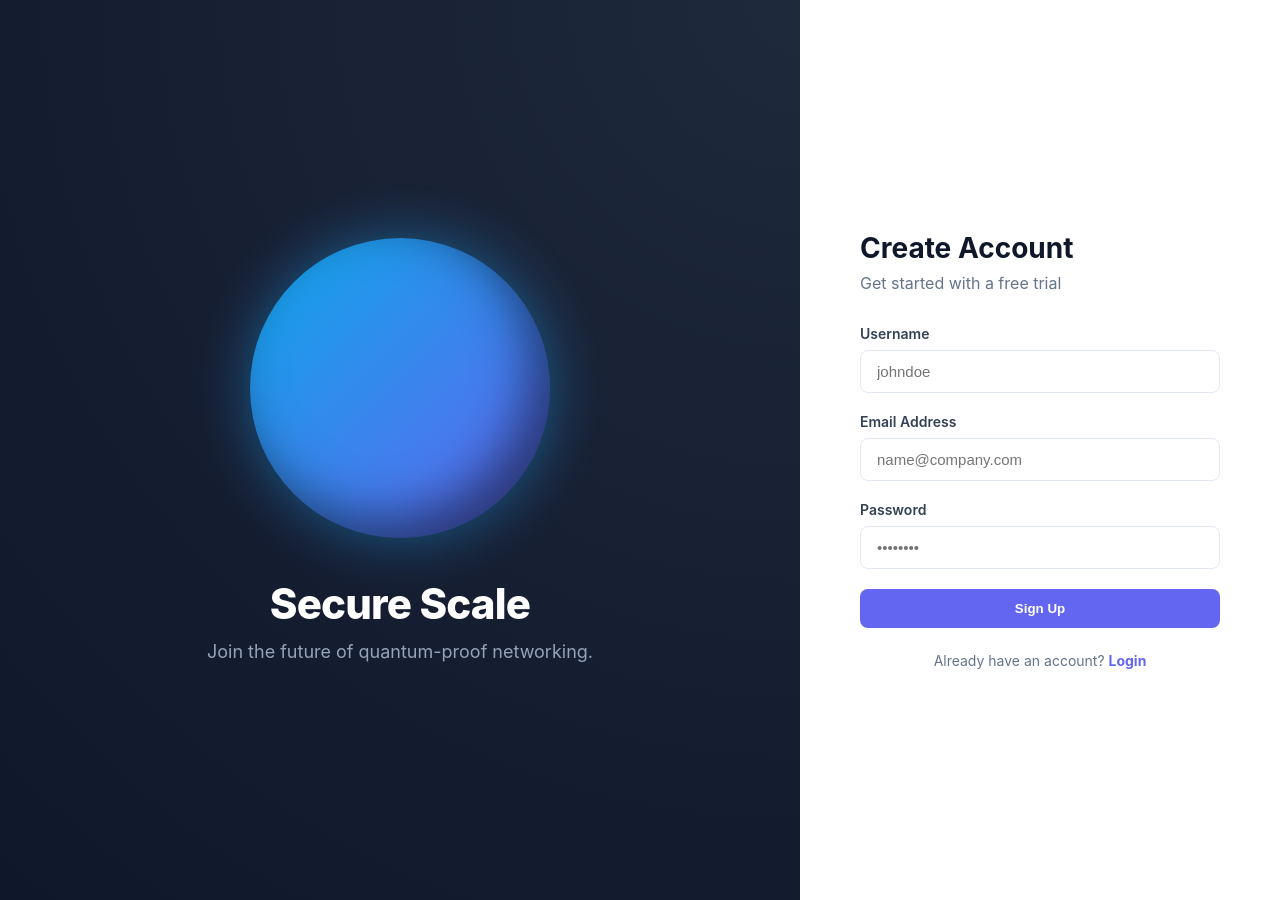
Test: Signup Component › shows error for weak password
Type "john" into the field with placeholder "johndoe".
click(1040, 372); type("john")  # box [860,350,1220,393]
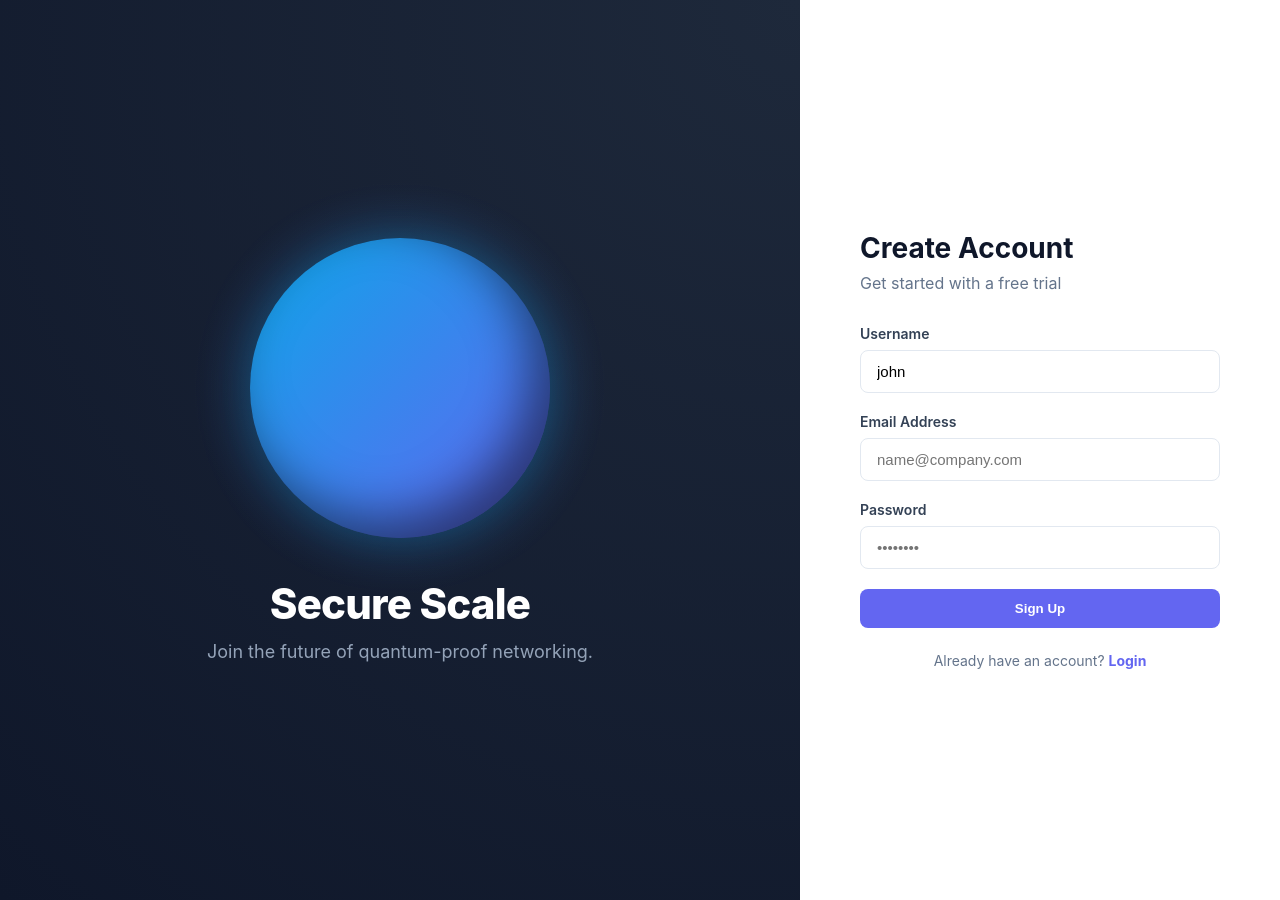
Type "test@mail.com" into the field with placeholder "name@company.com".
click(1040, 460); type("test@mail.com")  # box [860,438,1220,481]
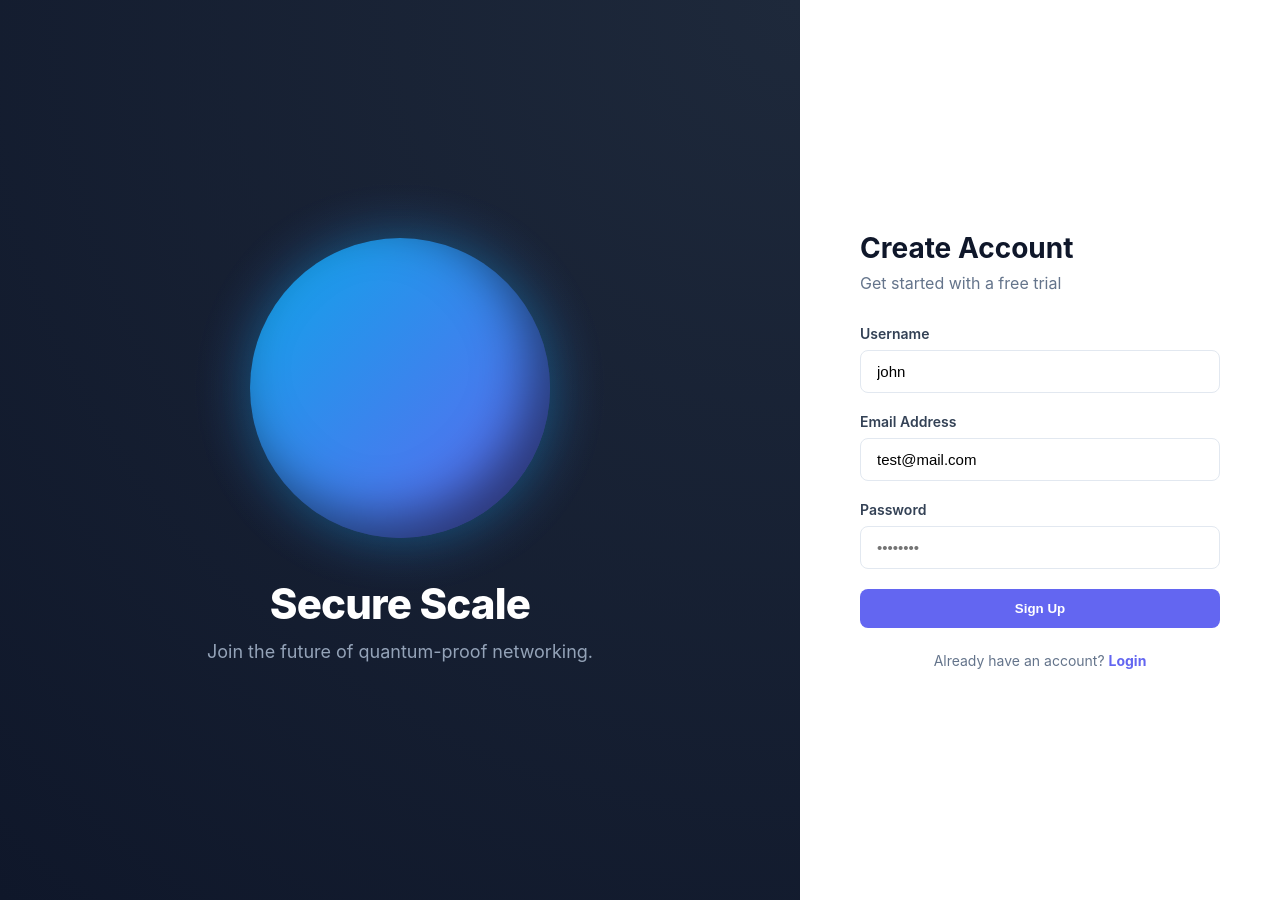
Type "123" into the password field with placeholder "••••••••".
click(1040, 548); type("123")  # box [860,526,1220,569]
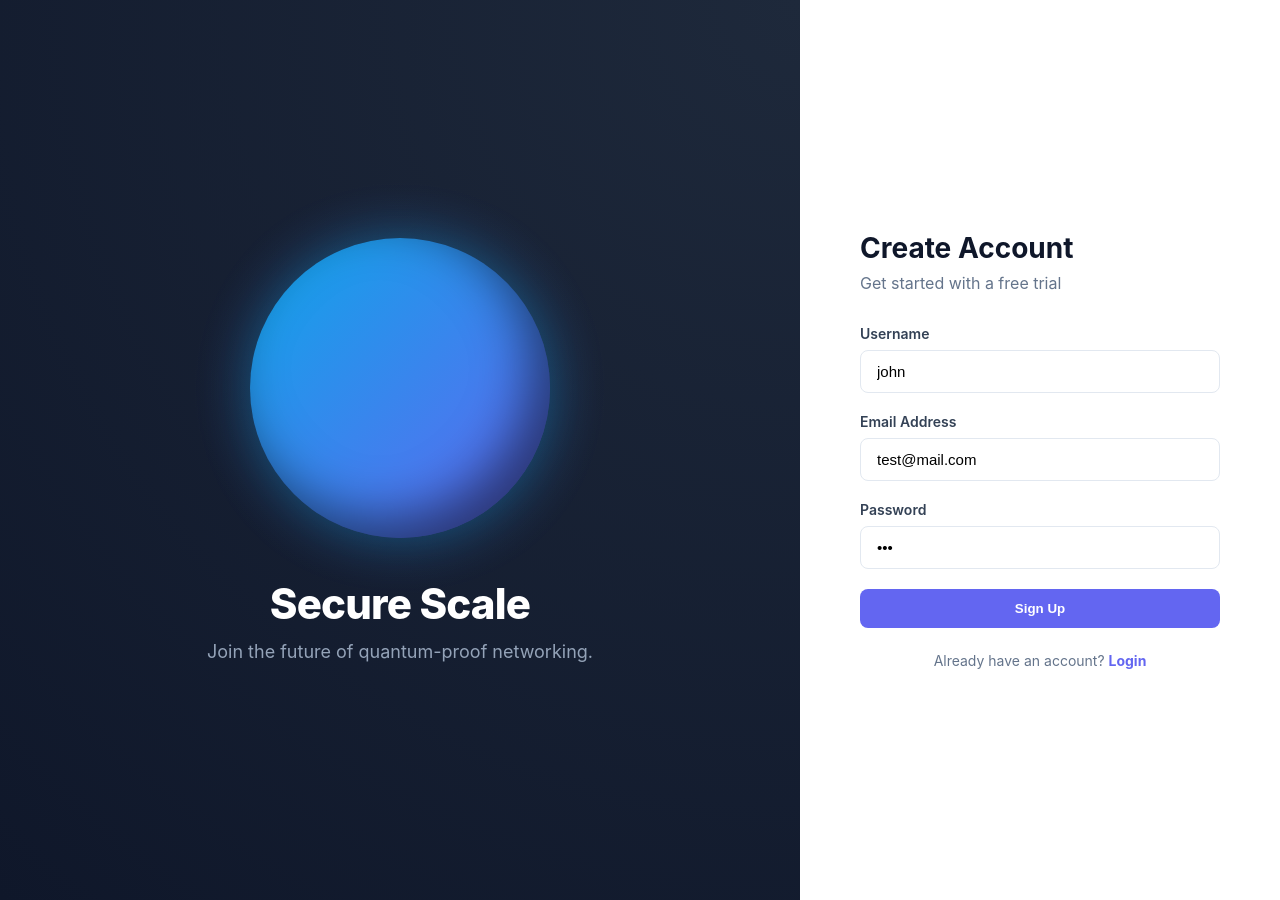
Click the button "Sign Up".
click(1040, 608)  # box [860,589,1220,628]
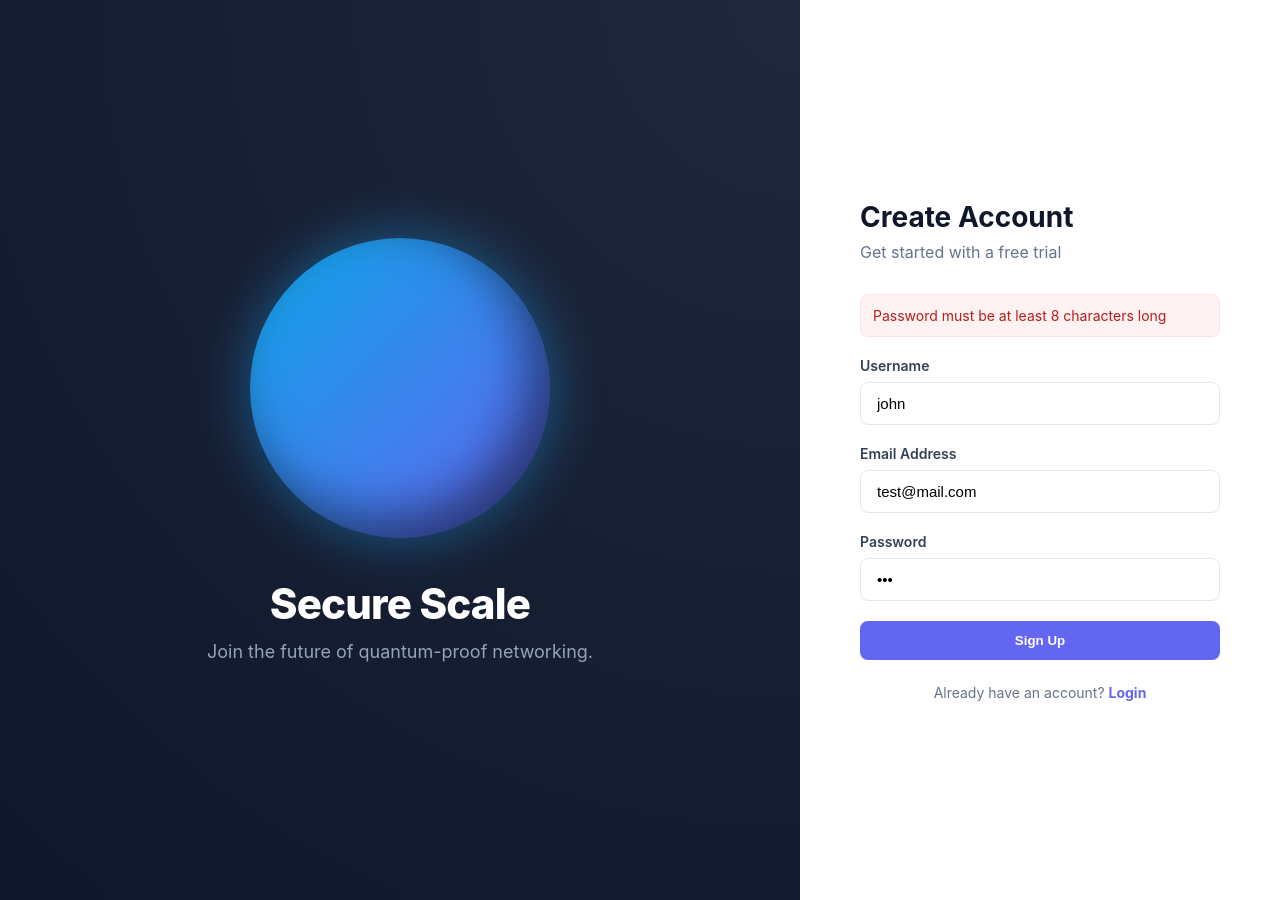
Now the text "Password must be at least 8 characters long" is shown, box [860,294,1220,336]
